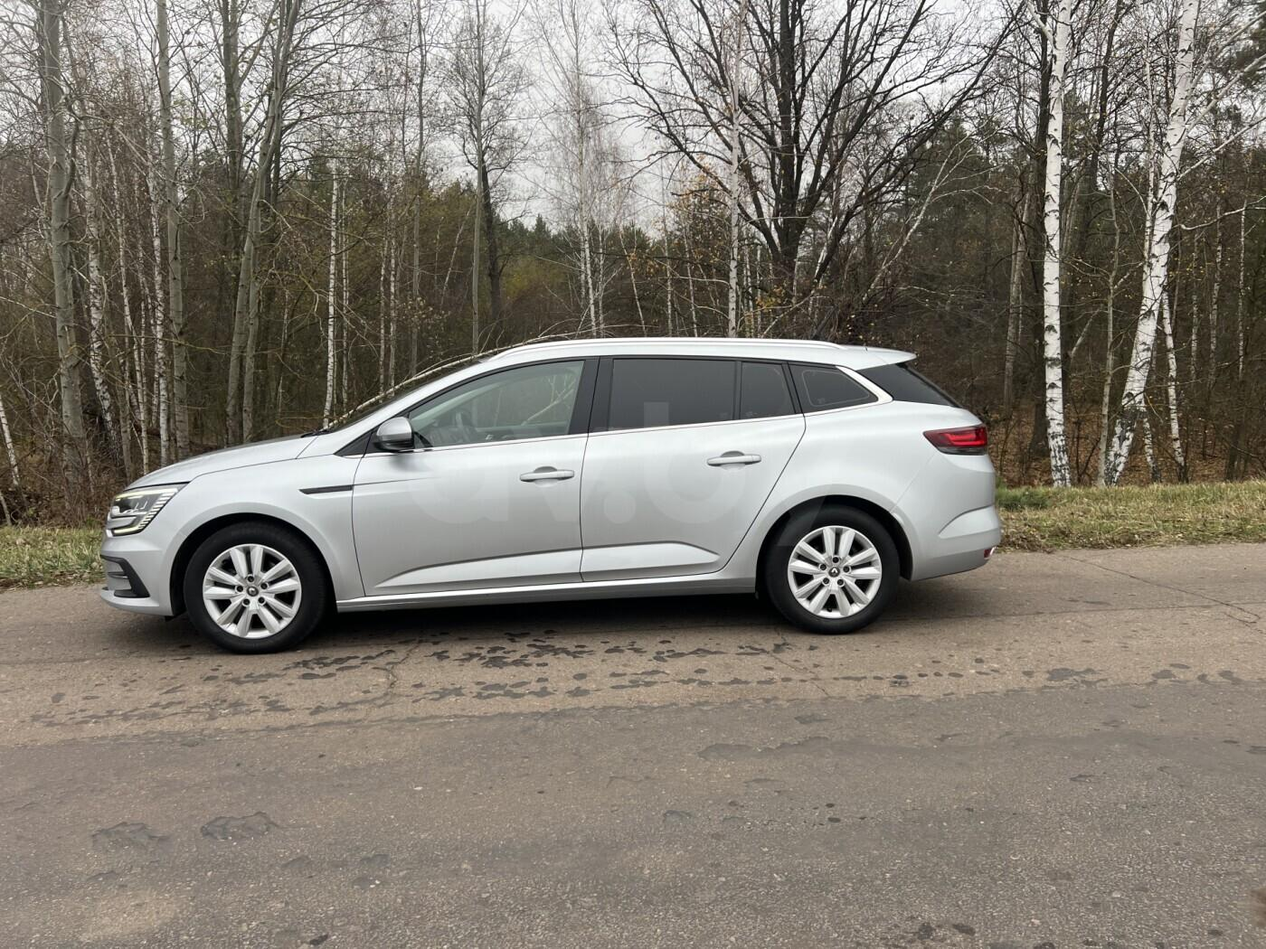Megane_2020: (97, 329, 1010, 669)
